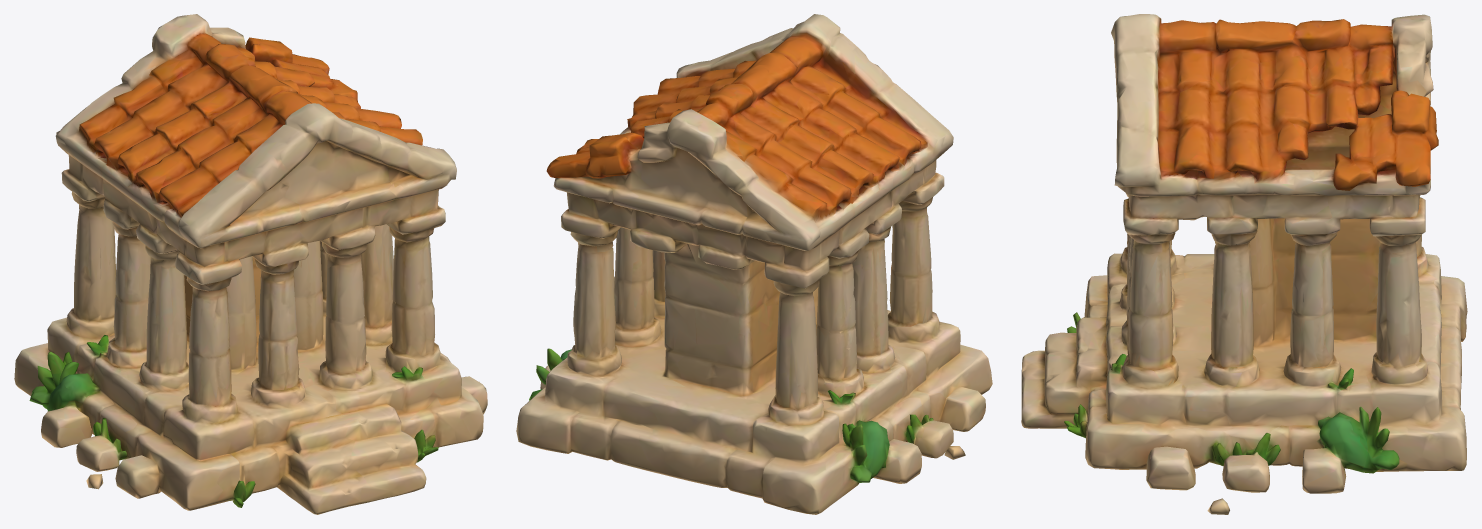
File: temple.glb
3 renders of one model, left to right at view 1: azimuth 30°, elevation 25°; view 2: azimuth 150°, elevation 25°; view 3: azimuth 270°, elevation 25°, orthographic. The views are drawn at different scales.
Visible parts, largest first — view 1: tripo_node_0ab04b63-9dcb-47ff-b254-46df2eaf74c5; view 2: tripo_node_0ab04b63-9dcb-47ff-b254-46df2eaf74c5; view 3: tripo_node_0ab04b63-9dcb-47ff-b254-46df2eaf74c5.
Boxes of the visible parts, x1,y1,x2,y2 form: tripo_node_0ab04b63-9dcb-47ff-b254-46df2eaf74c5: [14, 14, 487, 514]; tripo_node_0ab04b63-9dcb-47ff-b254-46df2eaf74c5: [516, 14, 992, 514]; tripo_node_0ab04b63-9dcb-47ff-b254-46df2eaf74c5: [1021, 14, 1467, 514].
Bounding box in the file's own units: 1 × 0.879 × 0.9067.
Materials: 1 (1 with a texture image).
